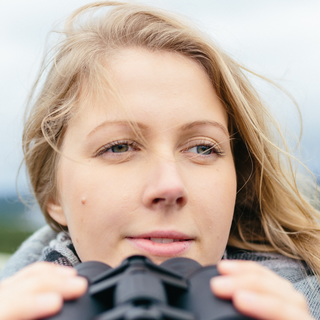eye: (93, 138, 143, 163), (179, 139, 223, 163)
